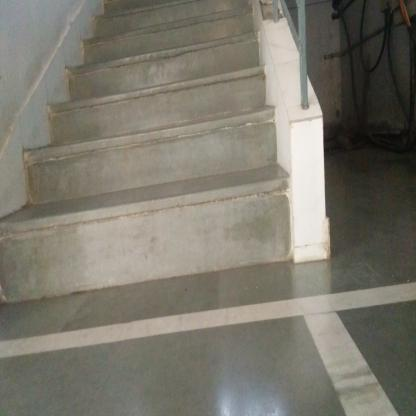stairs: (88, 42, 262, 298)
